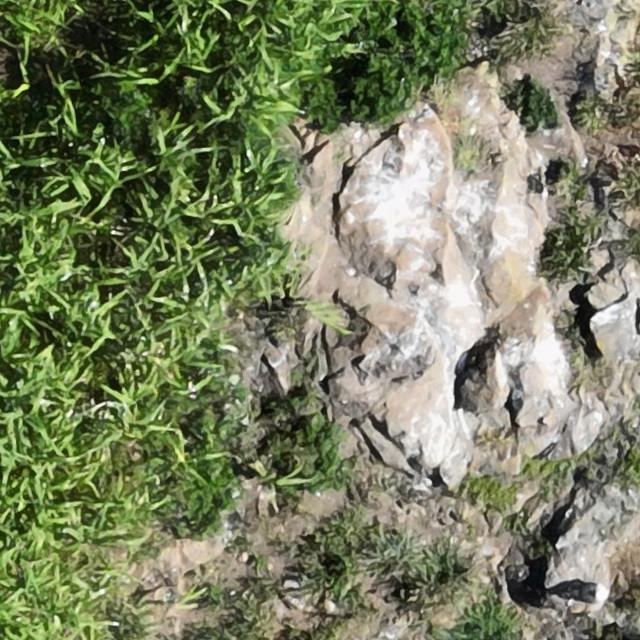umineko: (563, 581, 608, 603)
